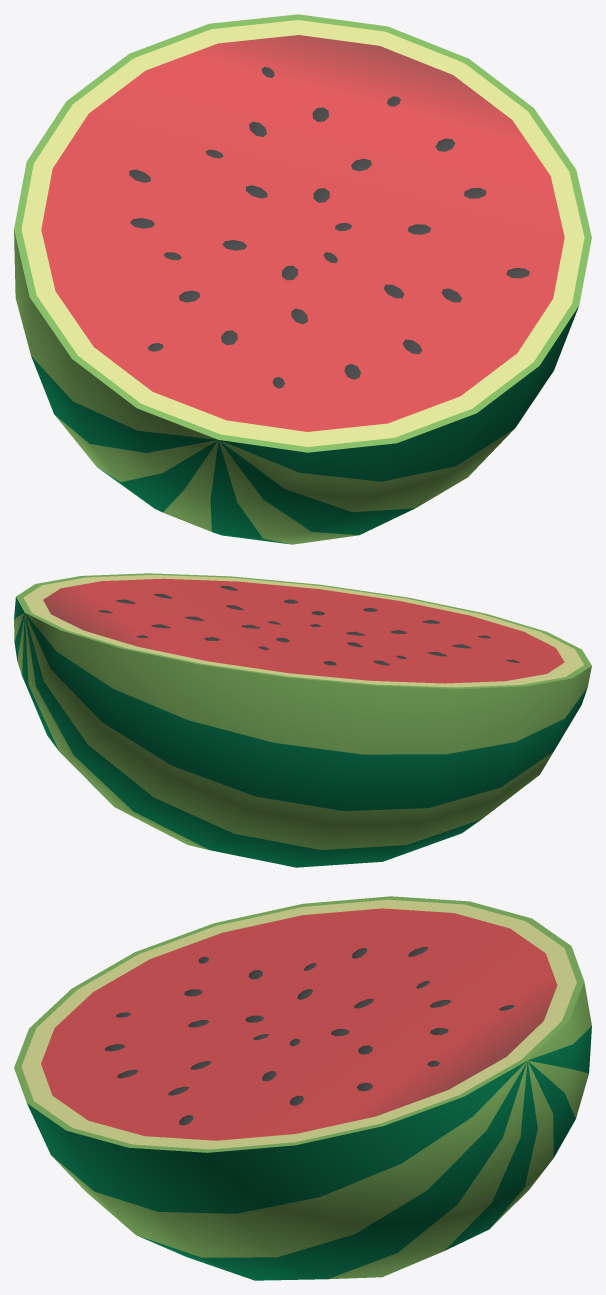
The model's file is SM_Fruits_Watermelon_2.fbx.
3 views of the same model, one above another, from view 1: azimuth 30°, elevation 25°; view 2: azimuth 150°, elevation 25°; view 3: azimuth 270°, elevation 25° (orthographic). The views are drawn at different scales.
Visible parts, largest first — view 1: SM_Fruits_Watermelon_2; view 2: SM_Fruits_Watermelon_2; view 3: SM_Fruits_Watermelon_2.
Boxes of the visible parts, box(x1,y1,x2,y2) form: SM_Fruits_Watermelon_2: box(14, 14, 591, 544); SM_Fruits_Watermelon_2: box(14, 573, 591, 867); SM_Fruits_Watermelon_2: box(14, 896, 591, 1280).
Size of the model in its own units: 35.95 by 20.98 by 35.79.
